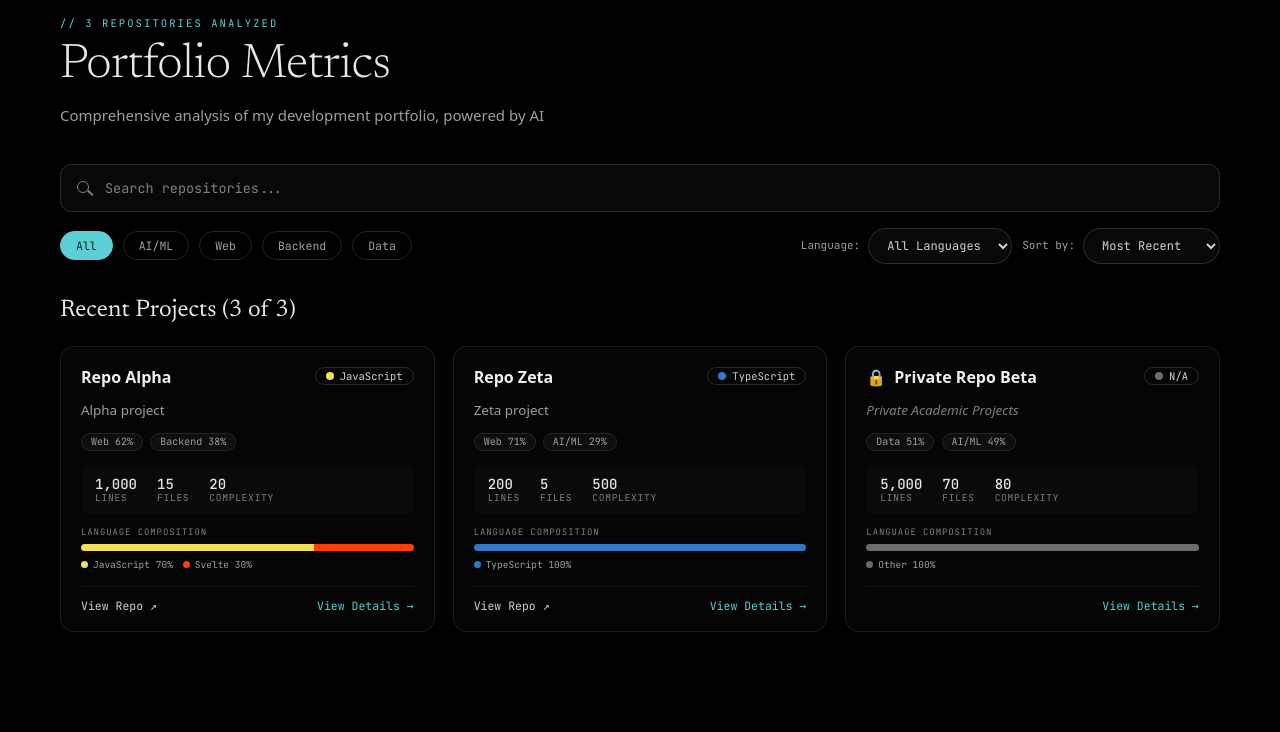
Scenario: Option B portfolio overview integration › supports category filtering and removes mini spider from project cards
The width and height of the screenshot is (1280, 732).
Check: the heading "Repo Alpha" is shown, box [81, 367, 171, 387]
Check: the heading "Repo Zeta" is shown, box [474, 367, 553, 387]
Click the button "AI/ML": coordinates (156, 246) [123, 231, 189, 260]
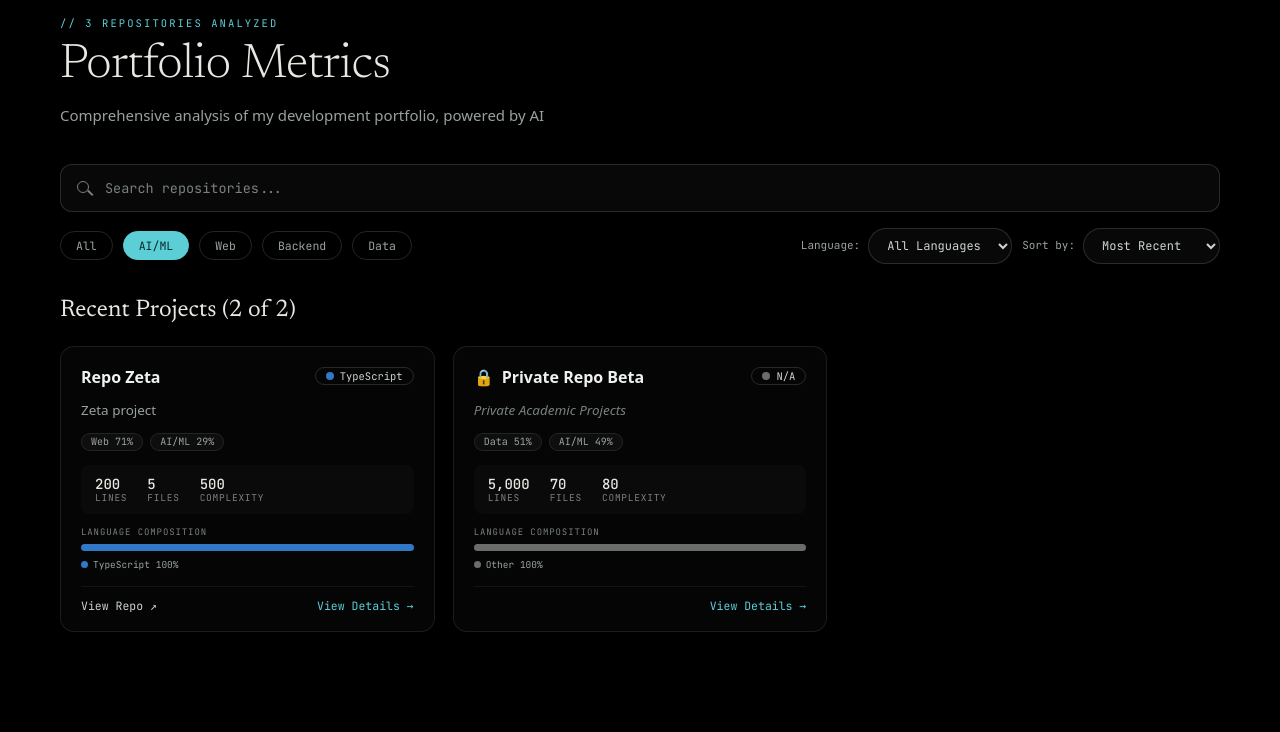
Check: the heading "Repo Zeta" is shown, box [81, 367, 160, 387]
Check: the button "Repo Alpha" is gone
